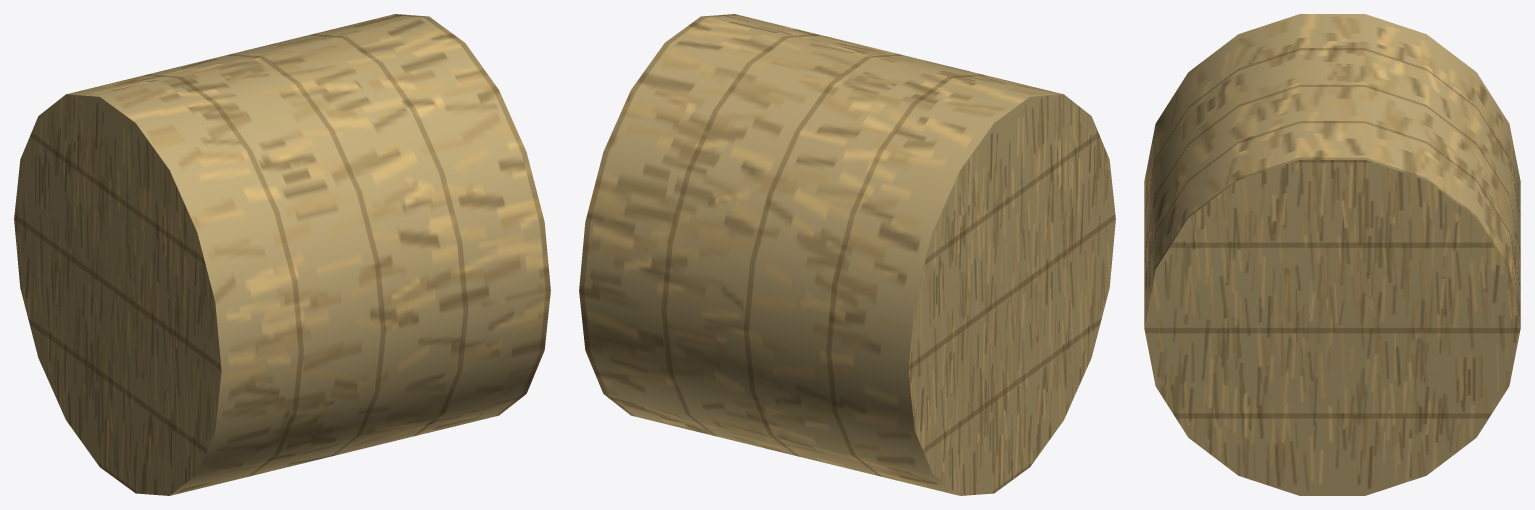
File: prop_hay_round_bale.glb
The picture shows the model from 3 angles, left to right: view 1: azimuth 30°, elevation 25°; view 2: azimuth 150°, elevation 25°; view 3: azimuth 270°, elevation 25°; orthographic projection. The views are drawn at different scales.
Visible parts, largest first — view 1: prop_hay_thatch; view 2: prop_hay_thatch; view 3: prop_hay_thatch.
Boxes of the visible parts, x1,y1,x2,y2 form: prop_hay_thatch: [14, 14, 550, 495]; prop_hay_thatch: [579, 14, 1115, 495]; prop_hay_thatch: [1144, 14, 1520, 495].
Size of the model in its own units: 1.1 by 1.18 by 1.2.
Materials: 1 (1 with a texture image).
